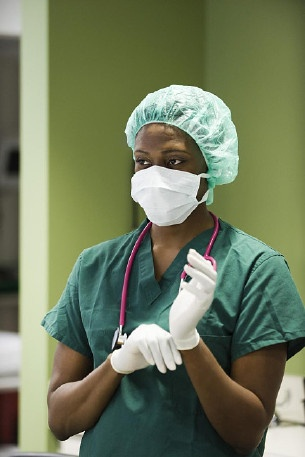Mask: (125, 144, 205, 224)
